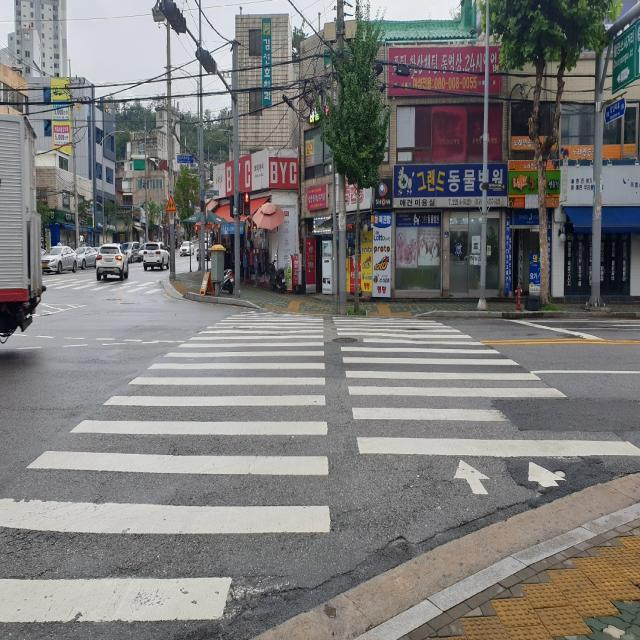zebra crossing ahead at: (0, 299, 637, 633)
